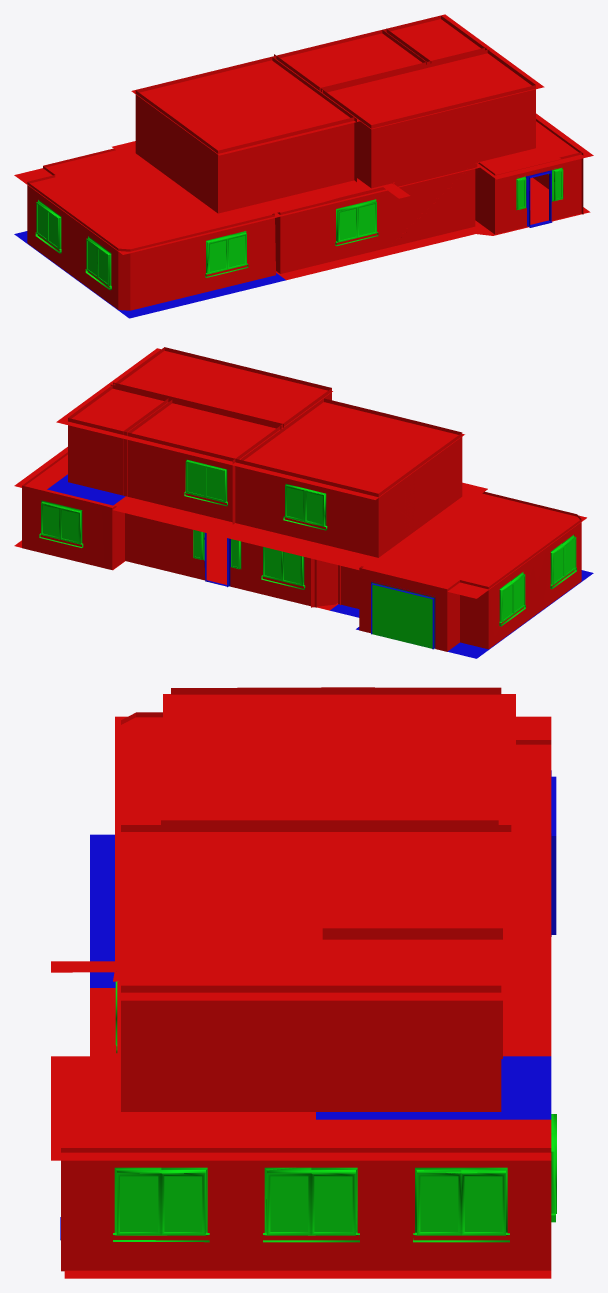
Rendered from House_Interior.fbx.
3 renders of one model, top to bottom at view 1: azimuth 30°, elevation 25°; view 2: azimuth 150°, elevation 25°; view 3: azimuth 270°, elevation 25°, orthographic. The views are drawn at different scales.
Parts seen in each view (by area): view 1: InteriorLOD0; view 2: InteriorLOD0; view 3: InteriorLOD0.
Boxes of the visible parts, x1,y1,x2,y2 form: InteriorLOD0: [14, 14, 593, 318]; InteriorLOD0: [14, 347, 593, 658]; InteriorLOD0: [51, 687, 556, 1278].
Size of what is drawn, in the model's own units: 2108 by 563 by 1011.
